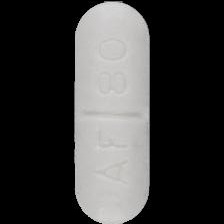60505-0222: (0, 0, 224, 224)
